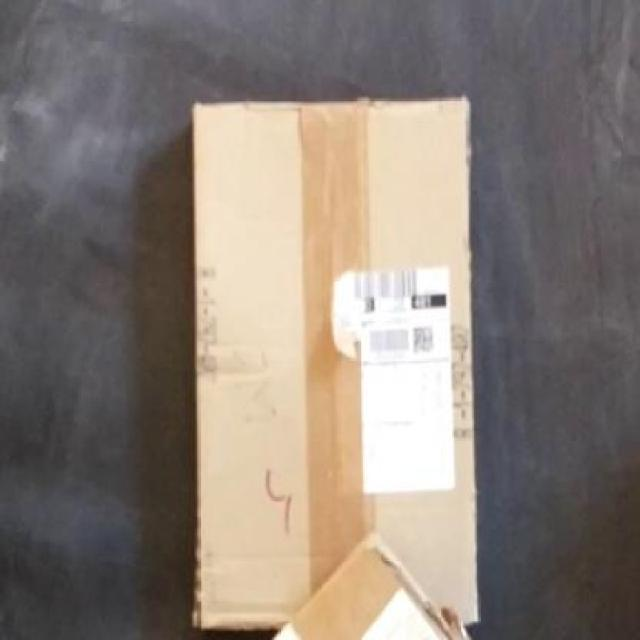cardboxes: (192, 100, 478, 623)
